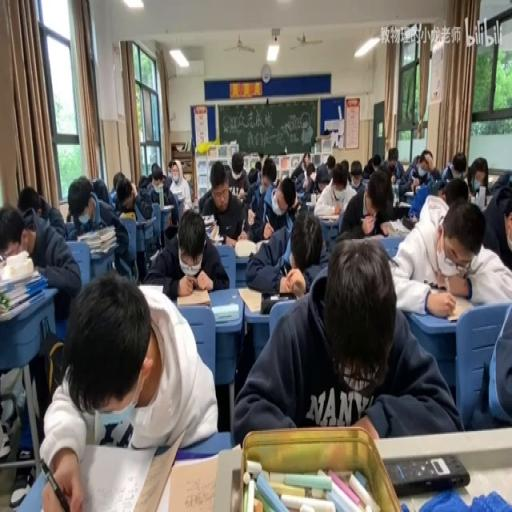calculator: (163, 452, 222, 512), (0, 266, 43, 292), (440, 296, 475, 321), (370, 234, 402, 258), (237, 286, 262, 314), (77, 224, 114, 242), (177, 287, 211, 306), (382, 218, 412, 236), (212, 302, 238, 322), (234, 238, 256, 256), (90, 244, 116, 258), (202, 215, 216, 236), (317, 212, 341, 220), (120, 209, 136, 221), (136, 214, 154, 224), (295, 189, 308, 201), (254, 239, 264, 253), (173, 188, 184, 200), (304, 199, 317, 208), (158, 204, 174, 210), (404, 190, 414, 198), (192, 200, 198, 212)
paper: (232, 239, 453, 444), (40, 273, 216, 512), (389, 194, 510, 312), (2, 198, 80, 330), (144, 206, 227, 299), (245, 205, 325, 297), (66, 174, 130, 283), (469, 286, 510, 431), (337, 165, 398, 237), (145, 162, 178, 226), (195, 159, 228, 215), (403, 146, 435, 192), (224, 151, 250, 199), (304, 158, 334, 196), (378, 145, 403, 186), (440, 174, 469, 206), (466, 155, 488, 196), (16, 185, 42, 219), (258, 155, 278, 199), (90, 176, 110, 205), (334, 223, 364, 242), (489, 169, 512, 193), (290, 152, 307, 184), (347, 159, 363, 191), (502, 209, 511, 252), (451, 151, 466, 176), (116, 189, 131, 212), (112, 170, 125, 190), (441, 164, 454, 184), (246, 166, 260, 184), (340, 158, 350, 175), (326, 154, 335, 172), (108, 189, 117, 206), (363, 158, 373, 173), (130, 180, 138, 198), (138, 175, 148, 189), (222, 162, 232, 176), (430, 168, 440, 182), (372, 154, 381, 169), (166, 161, 173, 176), (421, 155, 430, 165), (254, 160, 261, 170)
person: (384, 452, 468, 494), (260, 292, 295, 314), (394, 203, 412, 219), (215, 234, 226, 244)
